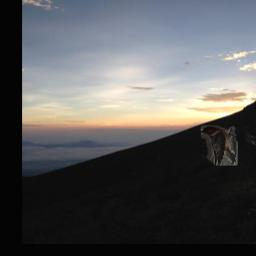Swallow: (200, 125, 237, 166)
